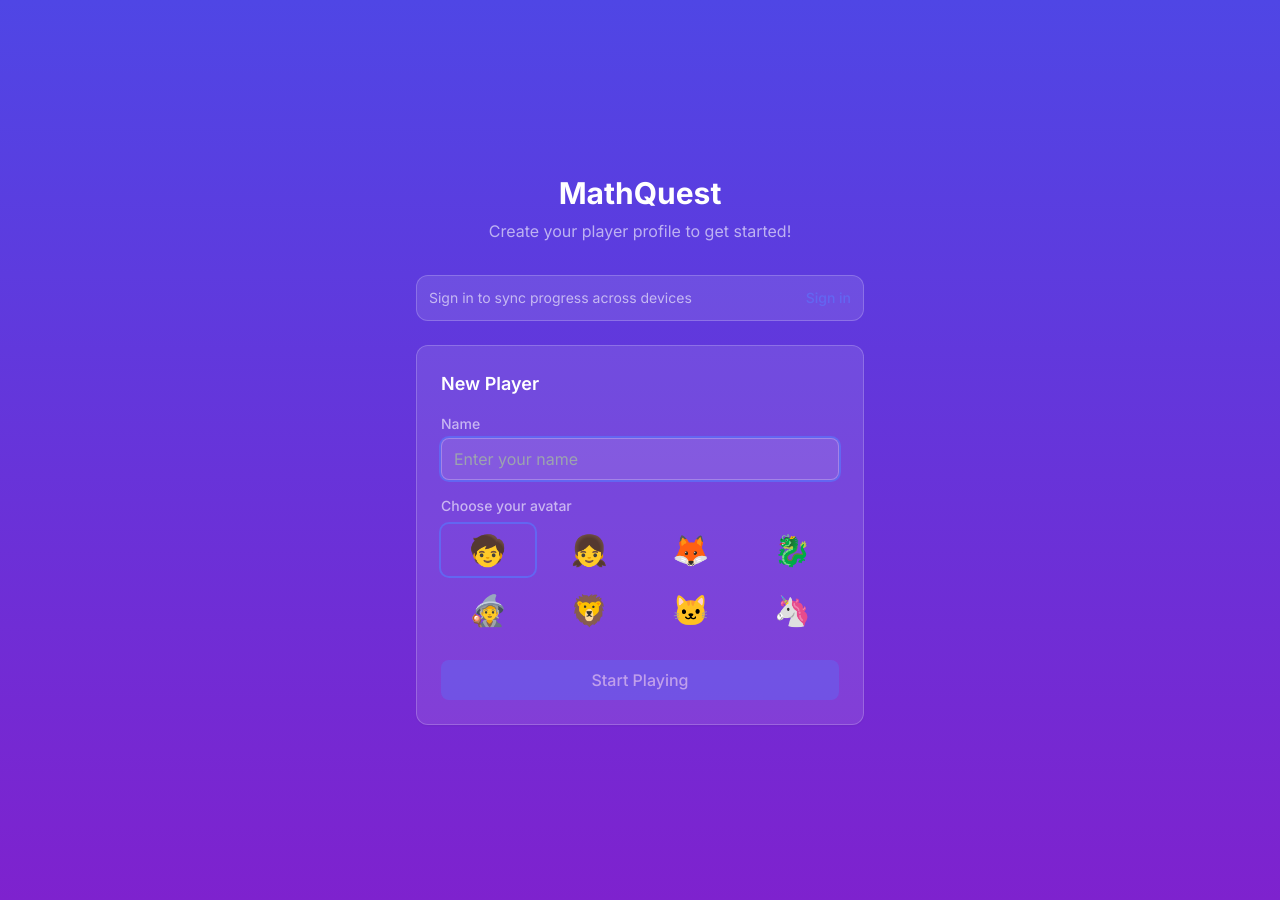
ProfilePicker › auth integration › should show auth form when Sign in button is clicked
Click the button with aria-label "Sign in or sign up" at (828, 298), box top-left (806, 288), bottom-right (851, 308)
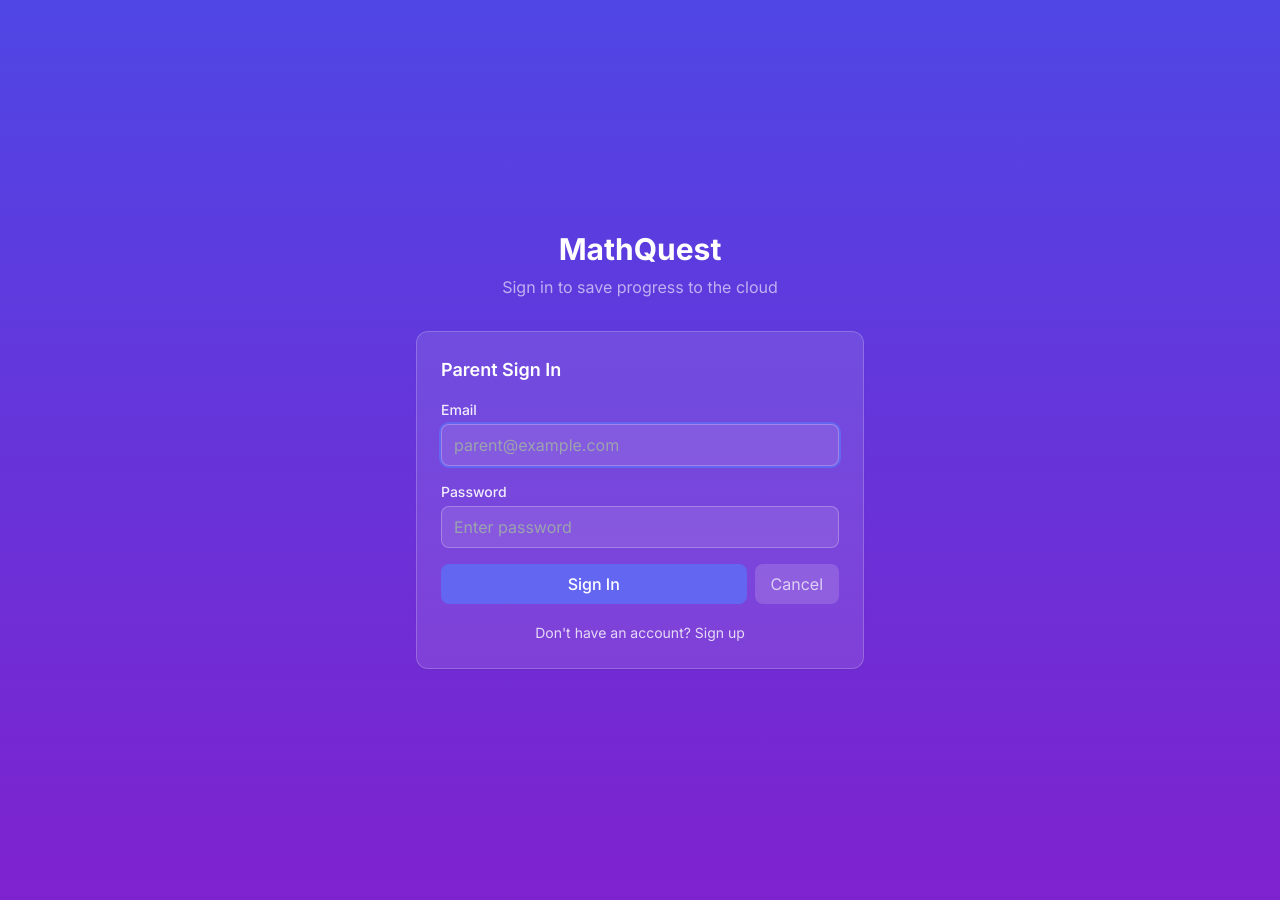
Check: the text "Sign in to save progress to the cloud" is shown, box top-left (502, 277), bottom-right (778, 297)
